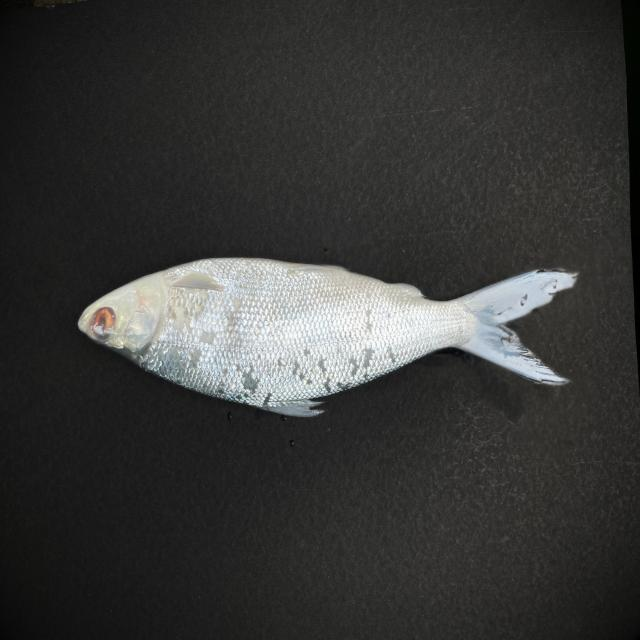605 g: (76, 256, 580, 418)
